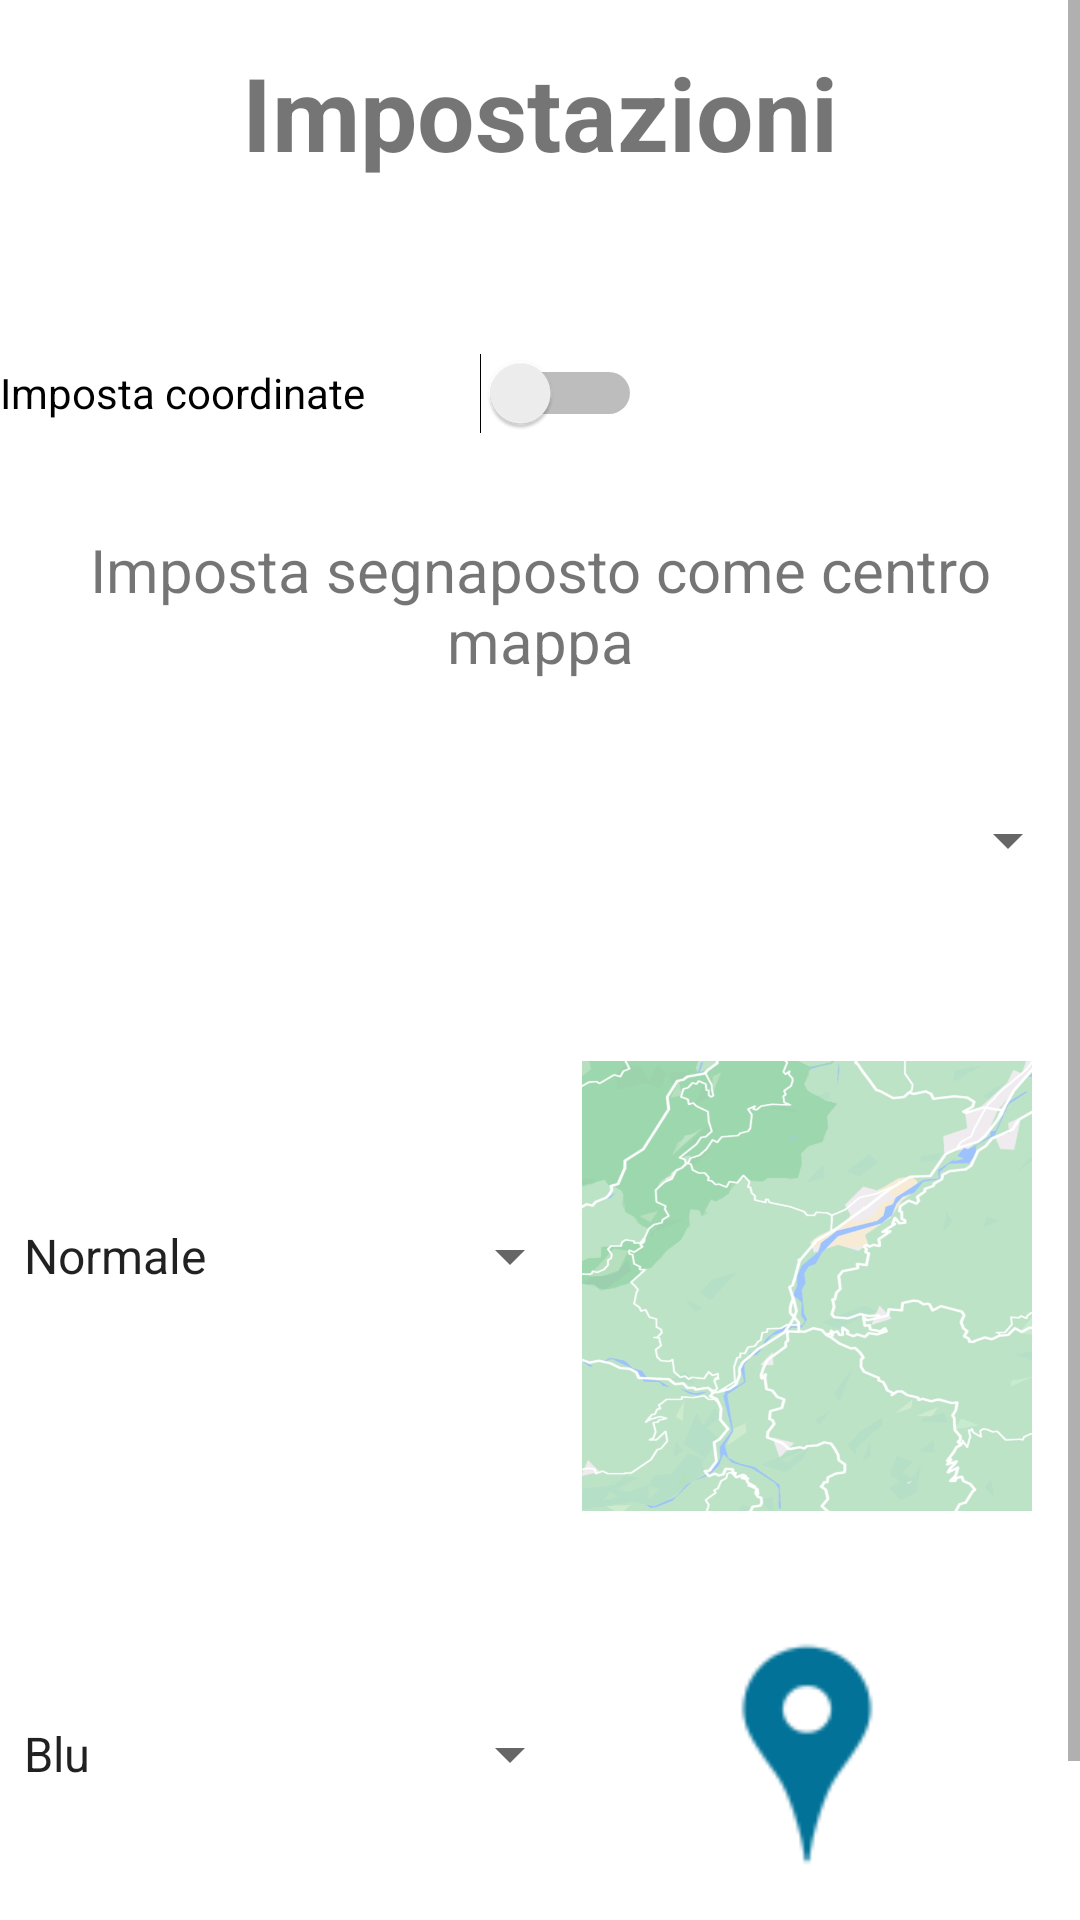

Where to tap for icons on this 1080 x 1920 app screen, as (x=x, y=y):
location place: (x=807, y=1753)
